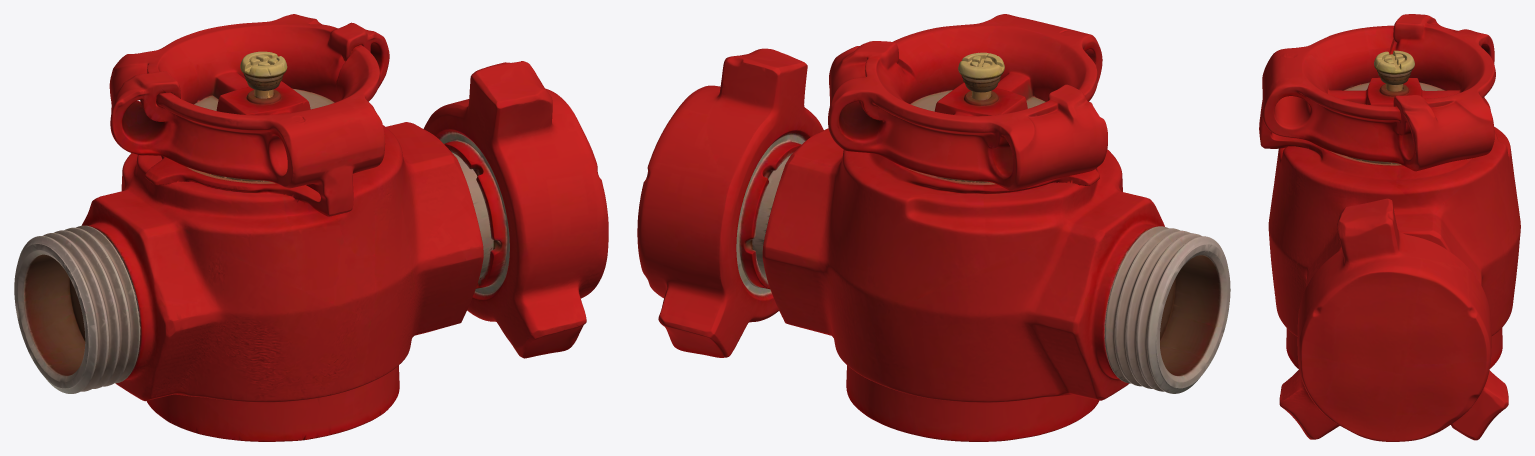
File: DRWeco.glb
3 renders of one model, left to right at view 1: azimuth 30°, elevation 25°; view 2: azimuth 150°, elevation 25°; view 3: azimuth 270°, elevation 25°, orthographic. The views are drawn at different scales.
Visible parts, largest first — view 1: tripo_node_b8b6b5f5-e432-438e-8ce9-d70f4518a24f; view 2: tripo_node_b8b6b5f5-e432-438e-8ce9-d70f4518a24f; view 3: tripo_node_b8b6b5f5-e432-438e-8ce9-d70f4518a24f.
Boxes of the visible parts, x1,y1,x2,y2 form: tripo_node_b8b6b5f5-e432-438e-8ce9-d70f4518a24f: (14, 14, 608, 441); tripo_node_b8b6b5f5-e432-438e-8ce9-d70f4518a24f: (637, 14, 1230, 441); tripo_node_b8b6b5f5-e432-438e-8ce9-d70f4518a24f: (1259, 14, 1520, 441).
Size of the model in its own units: 0.98 by 0.6109 by 0.5049.
1 material, 1 textured.
